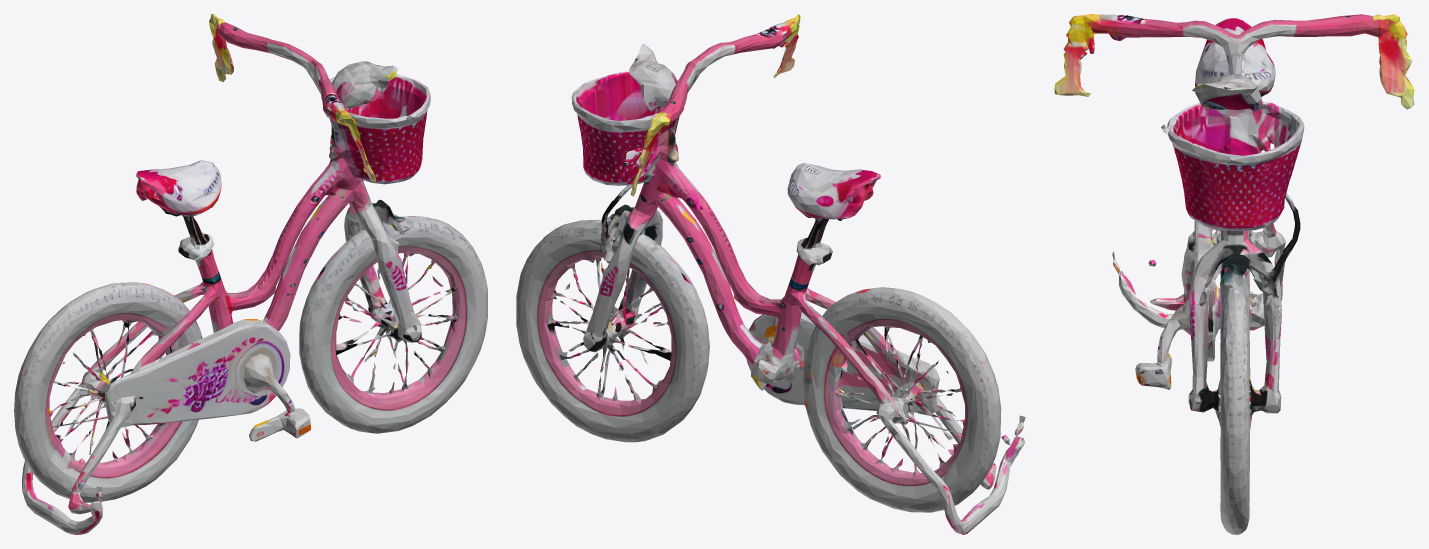
File: bicycle_textured.obj
3 renders of one model, left to right at view 1: azimuth 30°, elevation 25°; view 2: azimuth 150°, elevation 25°; view 3: azimuth 270°, elevation 25°, orthographic. The views are drawn at different scales.
Parts seen in each view (by area): view 1: bicycle_textured; view 2: bicycle_textured; view 3: bicycle_textured.
Boxes of the visible parts, x1=… form: bicycle_textured: x1=14, y1=14, x2=487, y2=534; bicycle_textured: x1=516, y1=14, x2=1025, y2=534; bicycle_textured: x1=1054, y1=14, x2=1414, y2=534.
Size of the model in its own units: 0.9998 by 0.8113 by 0.5824.
1 material, 1 textured.
